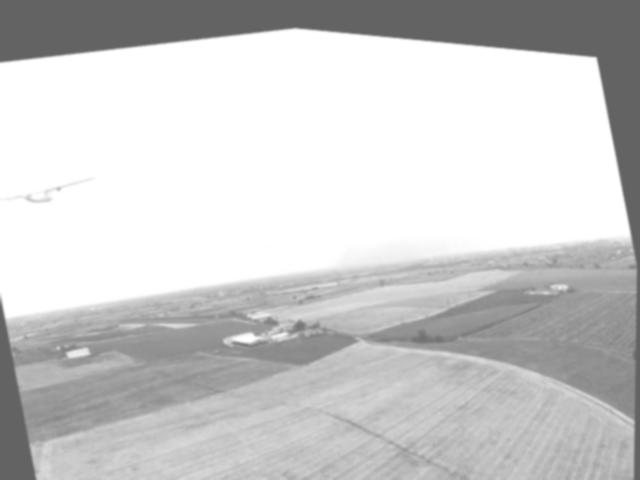hedef: (0, 139, 109, 235)
